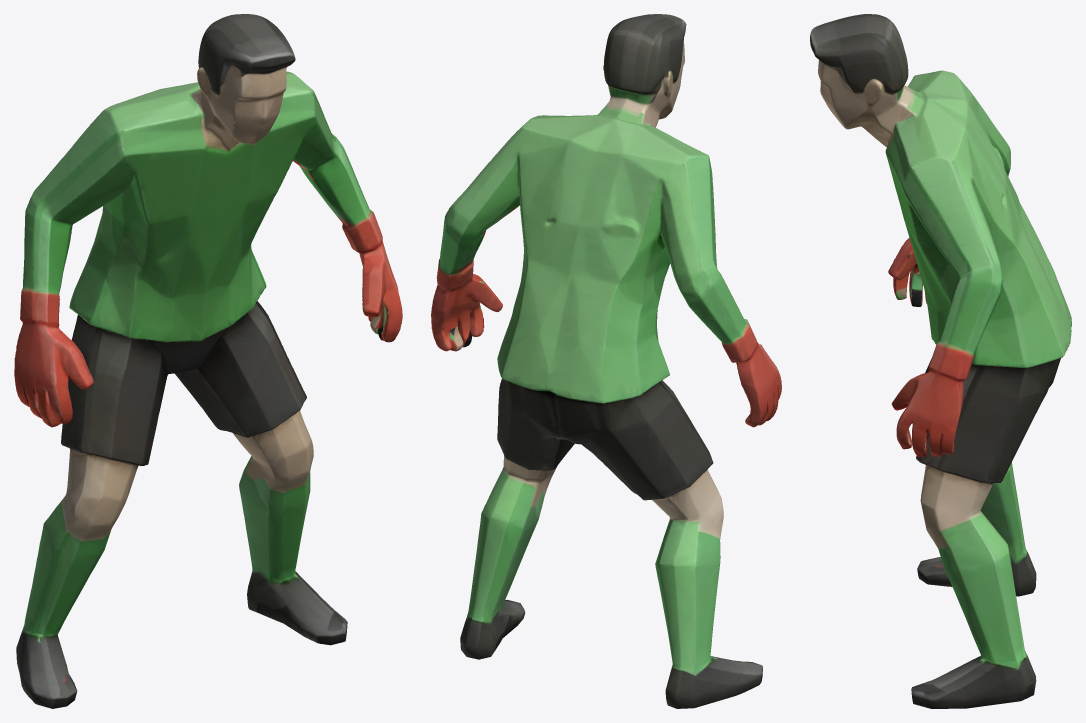
File: GoalKeeper_fbx_2.fbx
The picture shows the model from 3 angles, left to right: view 1: azimuth 30°, elevation 25°; view 2: azimuth 150°, elevation 25°; view 3: azimuth 270°, elevation 25°; orthographic projection. The views are drawn at different scales.
Visible parts, largest first — view 1: Goalkeeper; view 2: Goalkeeper; view 3: Goalkeeper.
Part boxes in pixels (<box>): Goalkeeper: <box>14,14,402,708</box>; Goalkeeper: <box>431,14,781,708</box>; Goalkeeper: <box>810,14,1071,708</box>.
Size of the model in its own units: 57.55 by 100 by 37.85.
